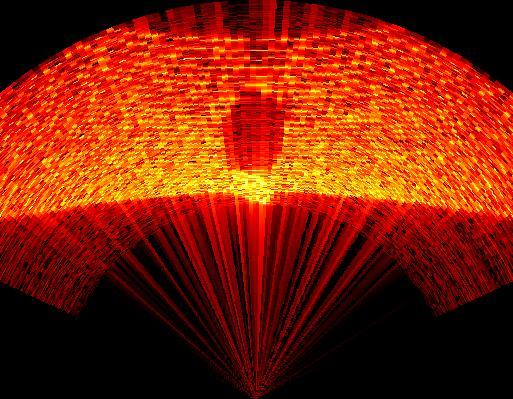box_crate: (220, 89, 291, 188)
